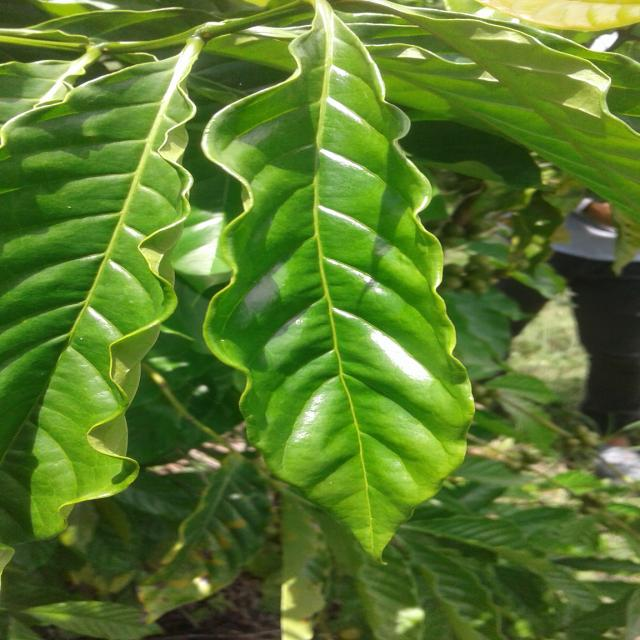Sanas: (198, 26, 475, 560)
